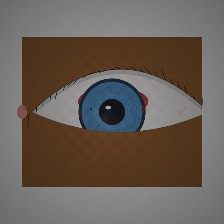hemorrhage_spot: (65, 63, 162, 140)
